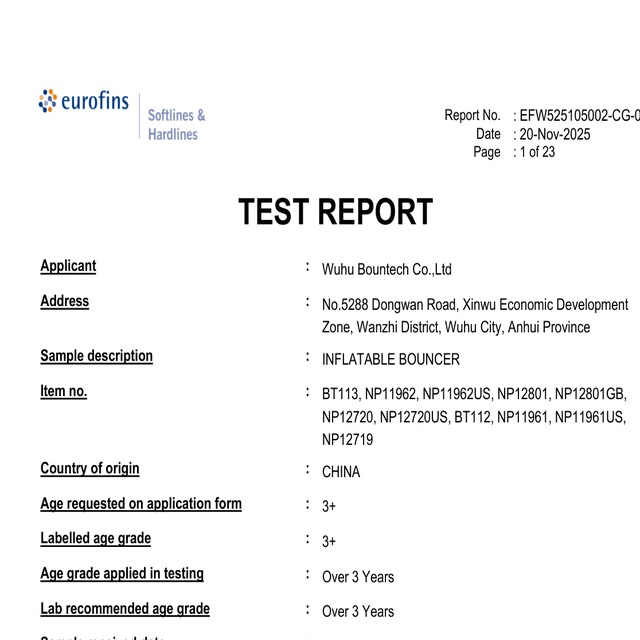eurofins: (36, 84, 139, 127)
